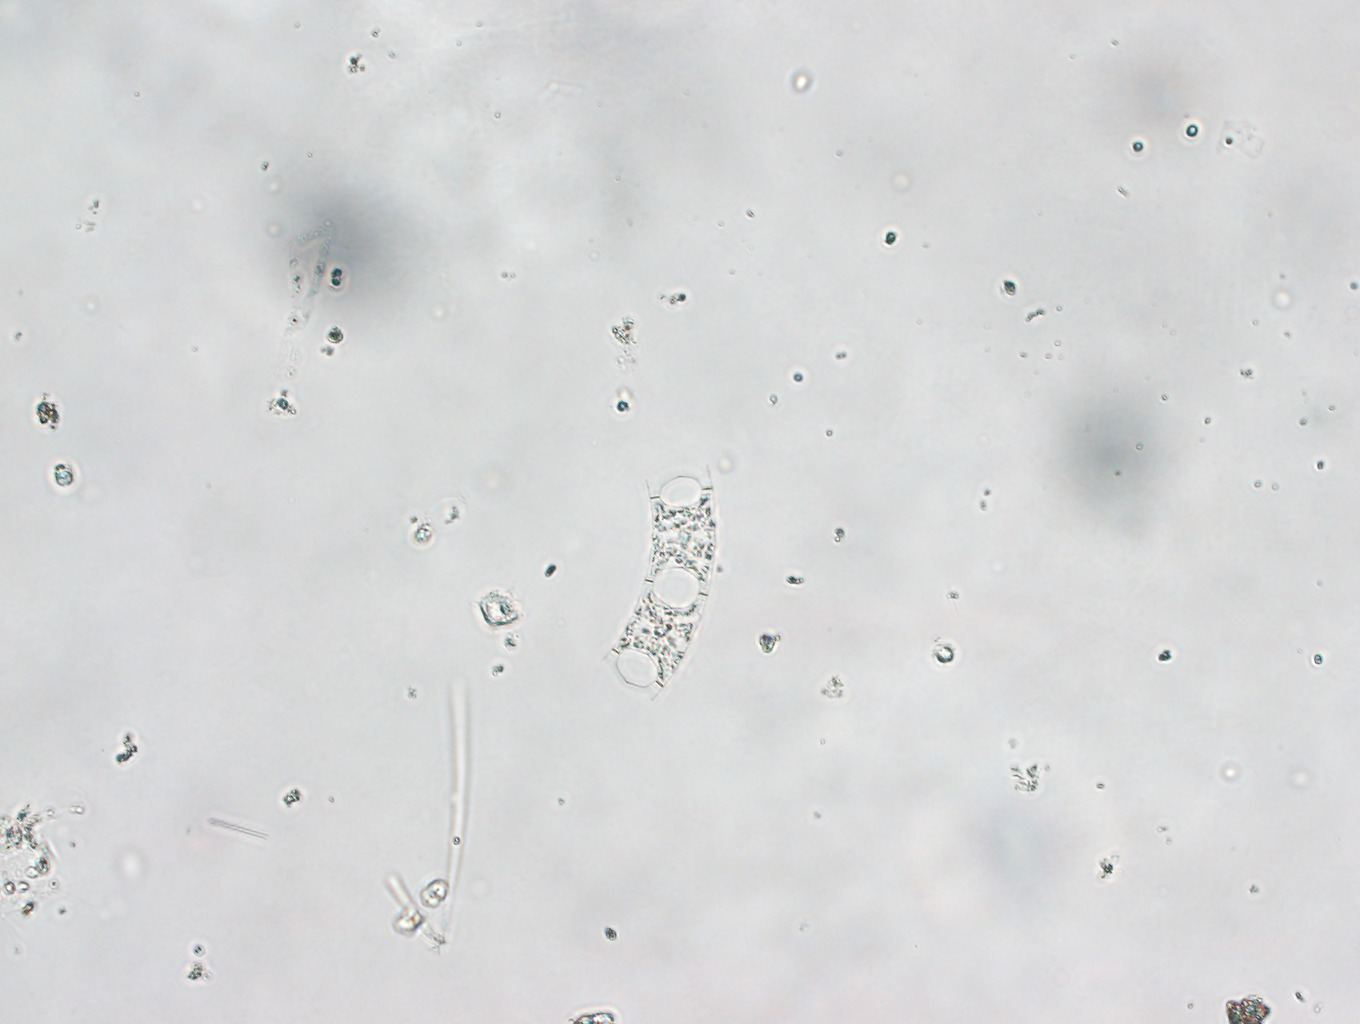eucampia: (602, 463, 724, 715)
